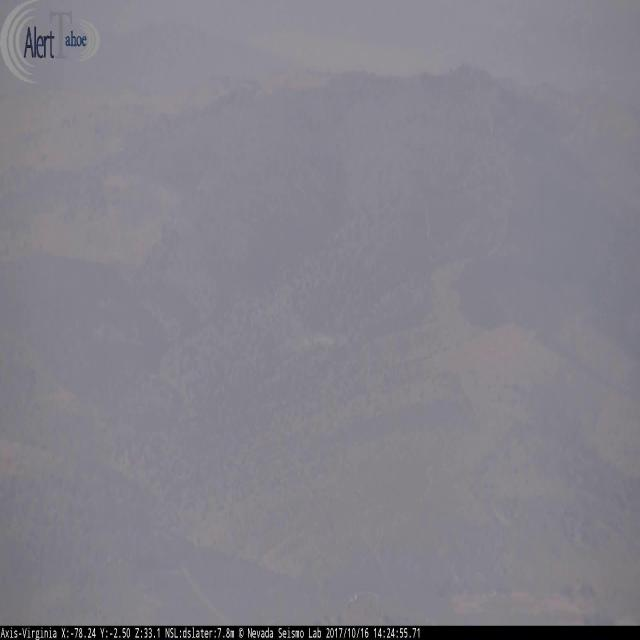smoke: (277, 313, 352, 351)
